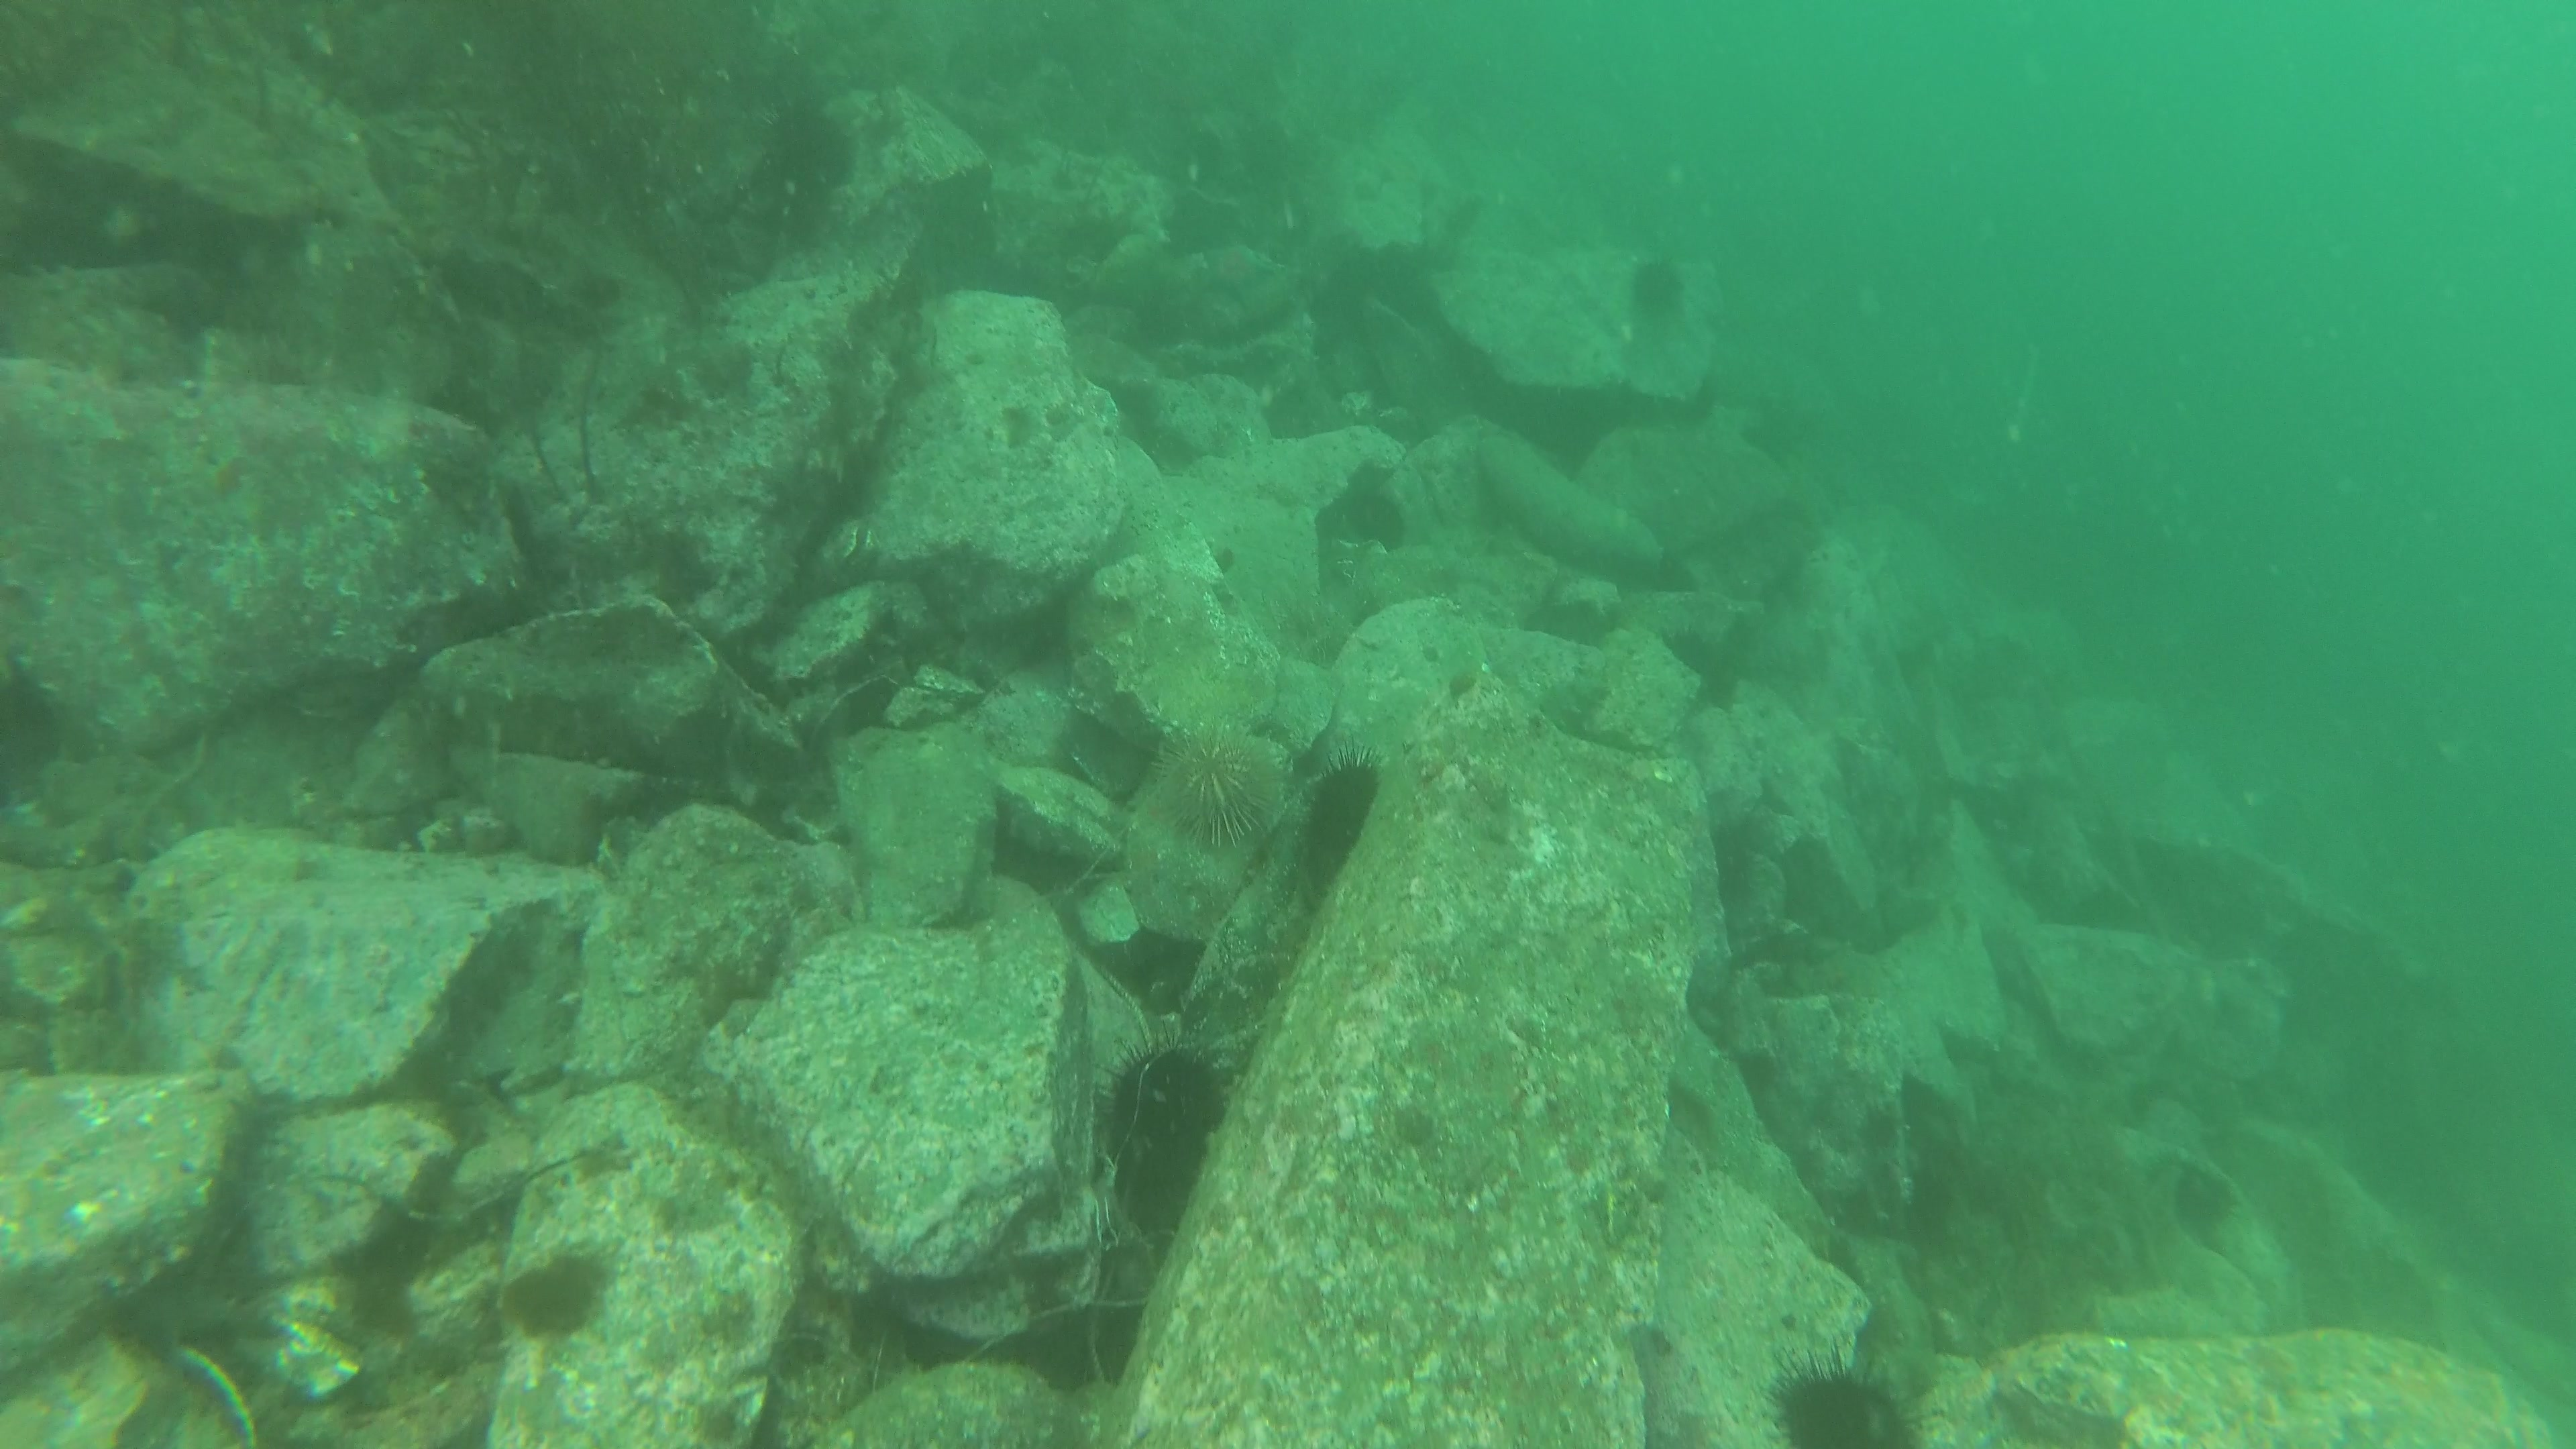echinus: (1125, 718, 1304, 855), (1755, 1339, 1932, 1449), (1097, 1035, 1233, 1152), (1295, 750, 1399, 872), (1626, 244, 1702, 324)
